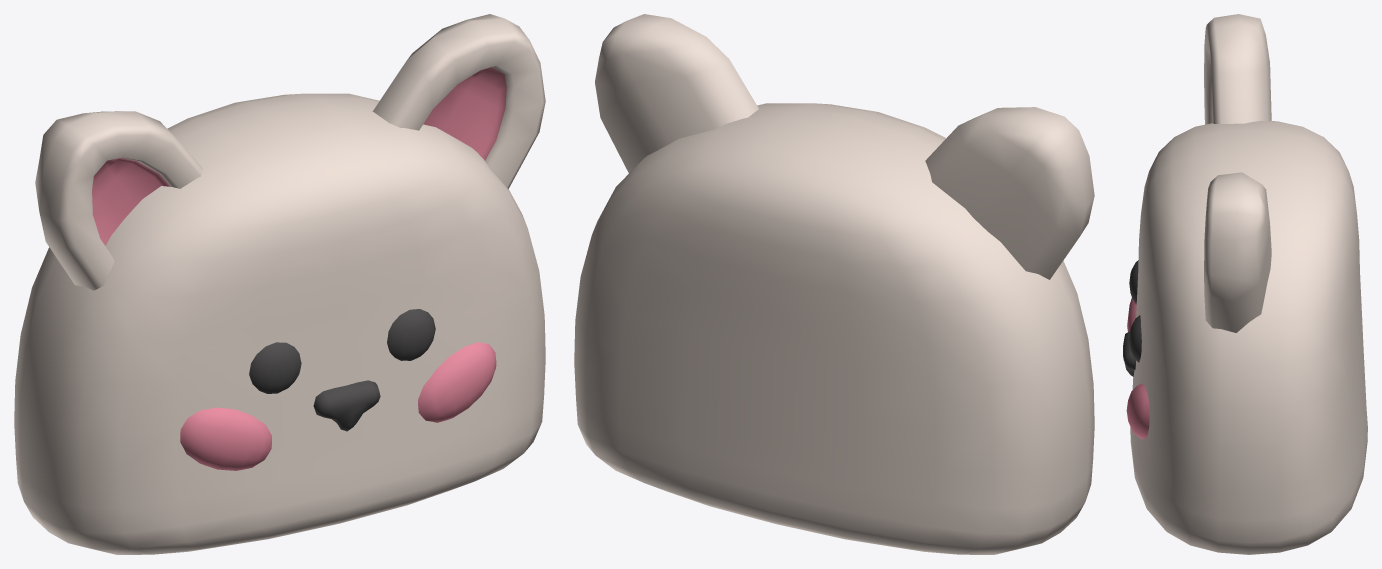
The model's file is Doll_Polar.glb.
3 renders of one model, left to right at view 1: azimuth 30°, elevation 25°; view 2: azimuth 150°, elevation 25°; view 3: azimuth 270°, elevation 25°, orthographic. The views are drawn at different scales.
Parts seen in each view (by area): view 1: Toy_Cat_1; view 2: Toy_Cat_1; view 3: Toy_Cat_1.
Part boxes in pixels (x1,y1,x2,y2): Toy_Cat_1: (14, 14, 545, 554); Toy_Cat_1: (574, 14, 1094, 554); Toy_Cat_1: (1123, 14, 1367, 554).
Size of the model in its own units: 0.7616 by 0.6388 by 0.3769.
1 material, 1 textured.
